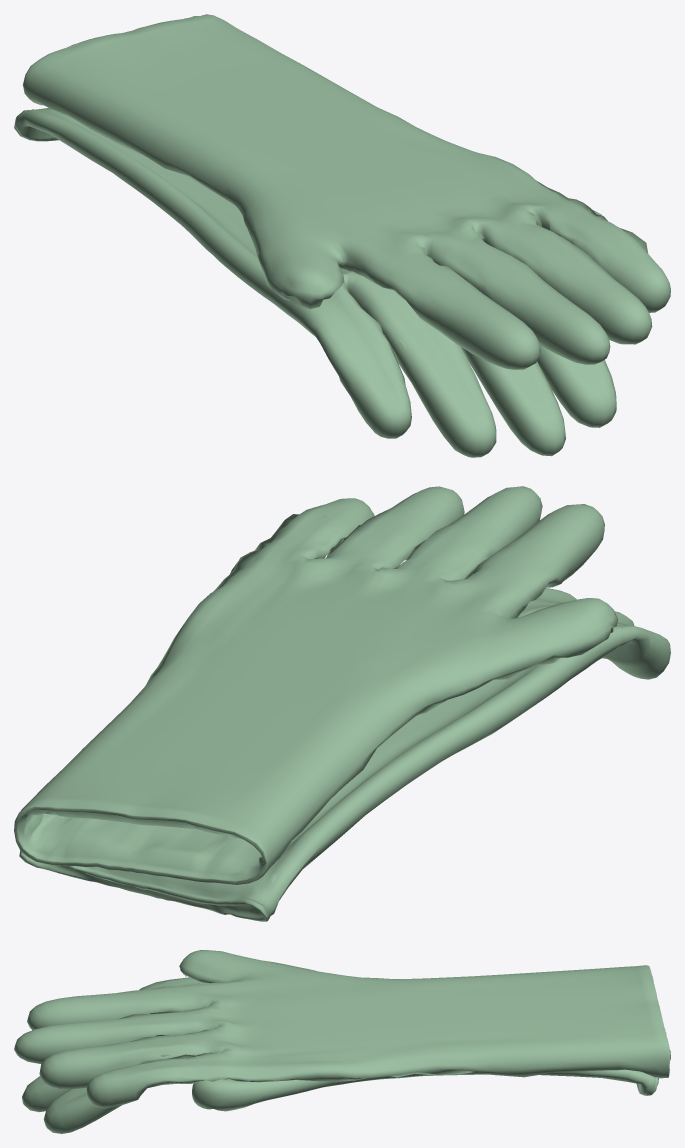
Rendered from gloves.fbx.
3 renders of one model, top to bottom at view 1: azimuth 30°, elevation 25°; view 2: azimuth 150°, elevation 25°; view 3: azimuth 270°, elevation 25°, orthographic. The views are drawn at different scales.
Visible parts, largest first — view 1: glove_left, glove_right; view 2: glove_left, glove_right; view 3: glove_left, glove_right.
Part boxes in pixels (x1=…): glove_left: x1=22, y1=14, x2=670, y2=369; glove_right: x1=14, y1=108, x2=616, y2=457; glove_left: x1=14, y1=486, x2=618, y2=884; glove_right: x1=19, y1=551, x2=670, y2=921; glove_left: x1=14, y1=950, x2=670, y2=1108; glove_right: x1=22, y1=977, x2=658, y2=1133.
Bounding box in the file's own units: 14.04 × 5.65 × 31.08.
